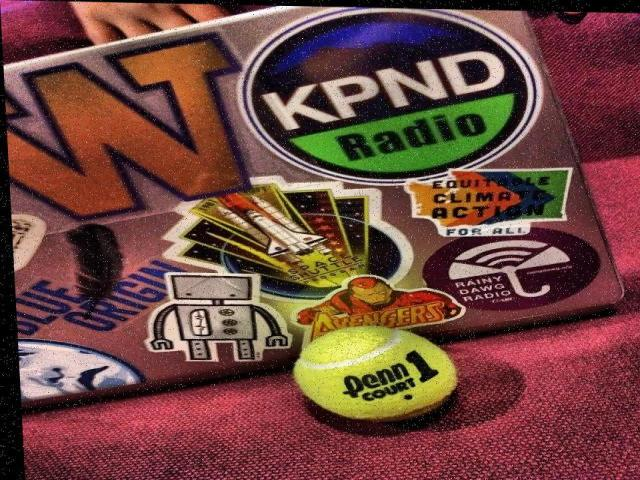tennis-ball: (292, 325, 460, 422)
